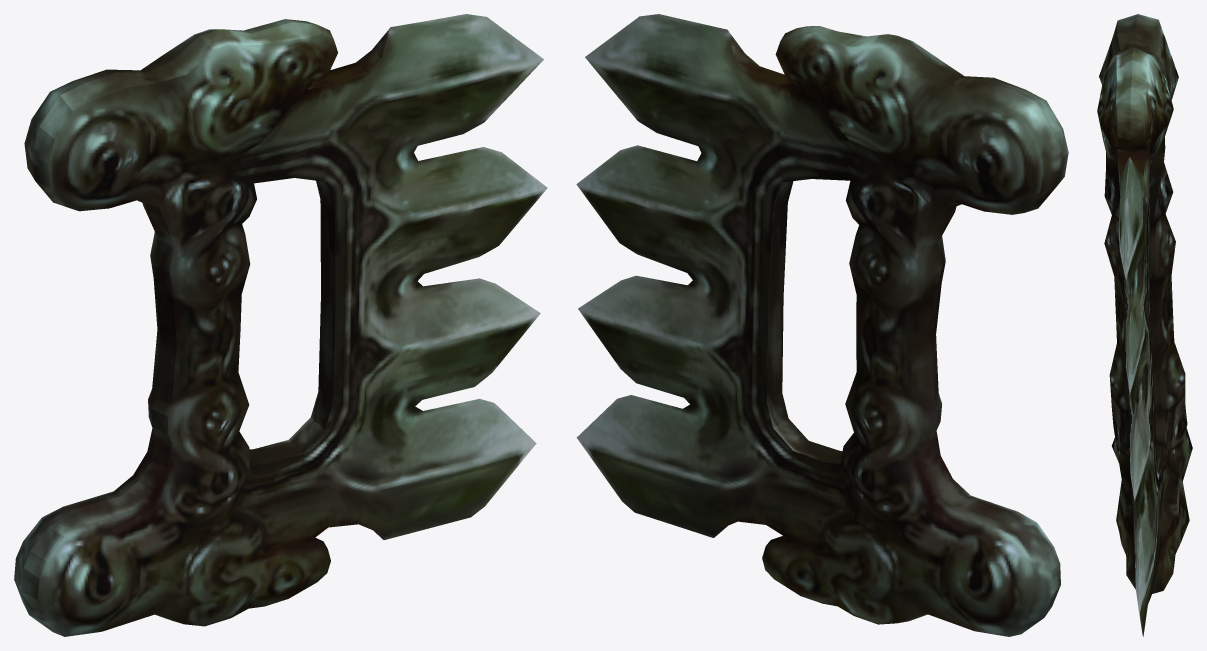
File: weapon-emerald-talons.glb
3 views of the same model, side by side, from view 1: azimuth 30°, elevation 25°; view 2: azimuth 150°, elevation 25°; view 3: azimuth 270°, elevation 25° (orthographic). The views are drawn at different scales.
Parts seen in each view (by area): view 1: fistA_MDL_q; view 2: fistA_MDL_q; view 3: fistA_MDL_q.
Boxes of the visible parts, x1,y1,x2,y2 form: fistA_MDL_q: [14, 14, 547, 636]; fistA_MDL_q: [576, 14, 1068, 636]; fistA_MDL_q: [1097, 14, 1192, 636].
Bounding box in the file's own units: 0.3489 × 0.3917 × 0.066.
Materials: 2 (2 with a texture image).
